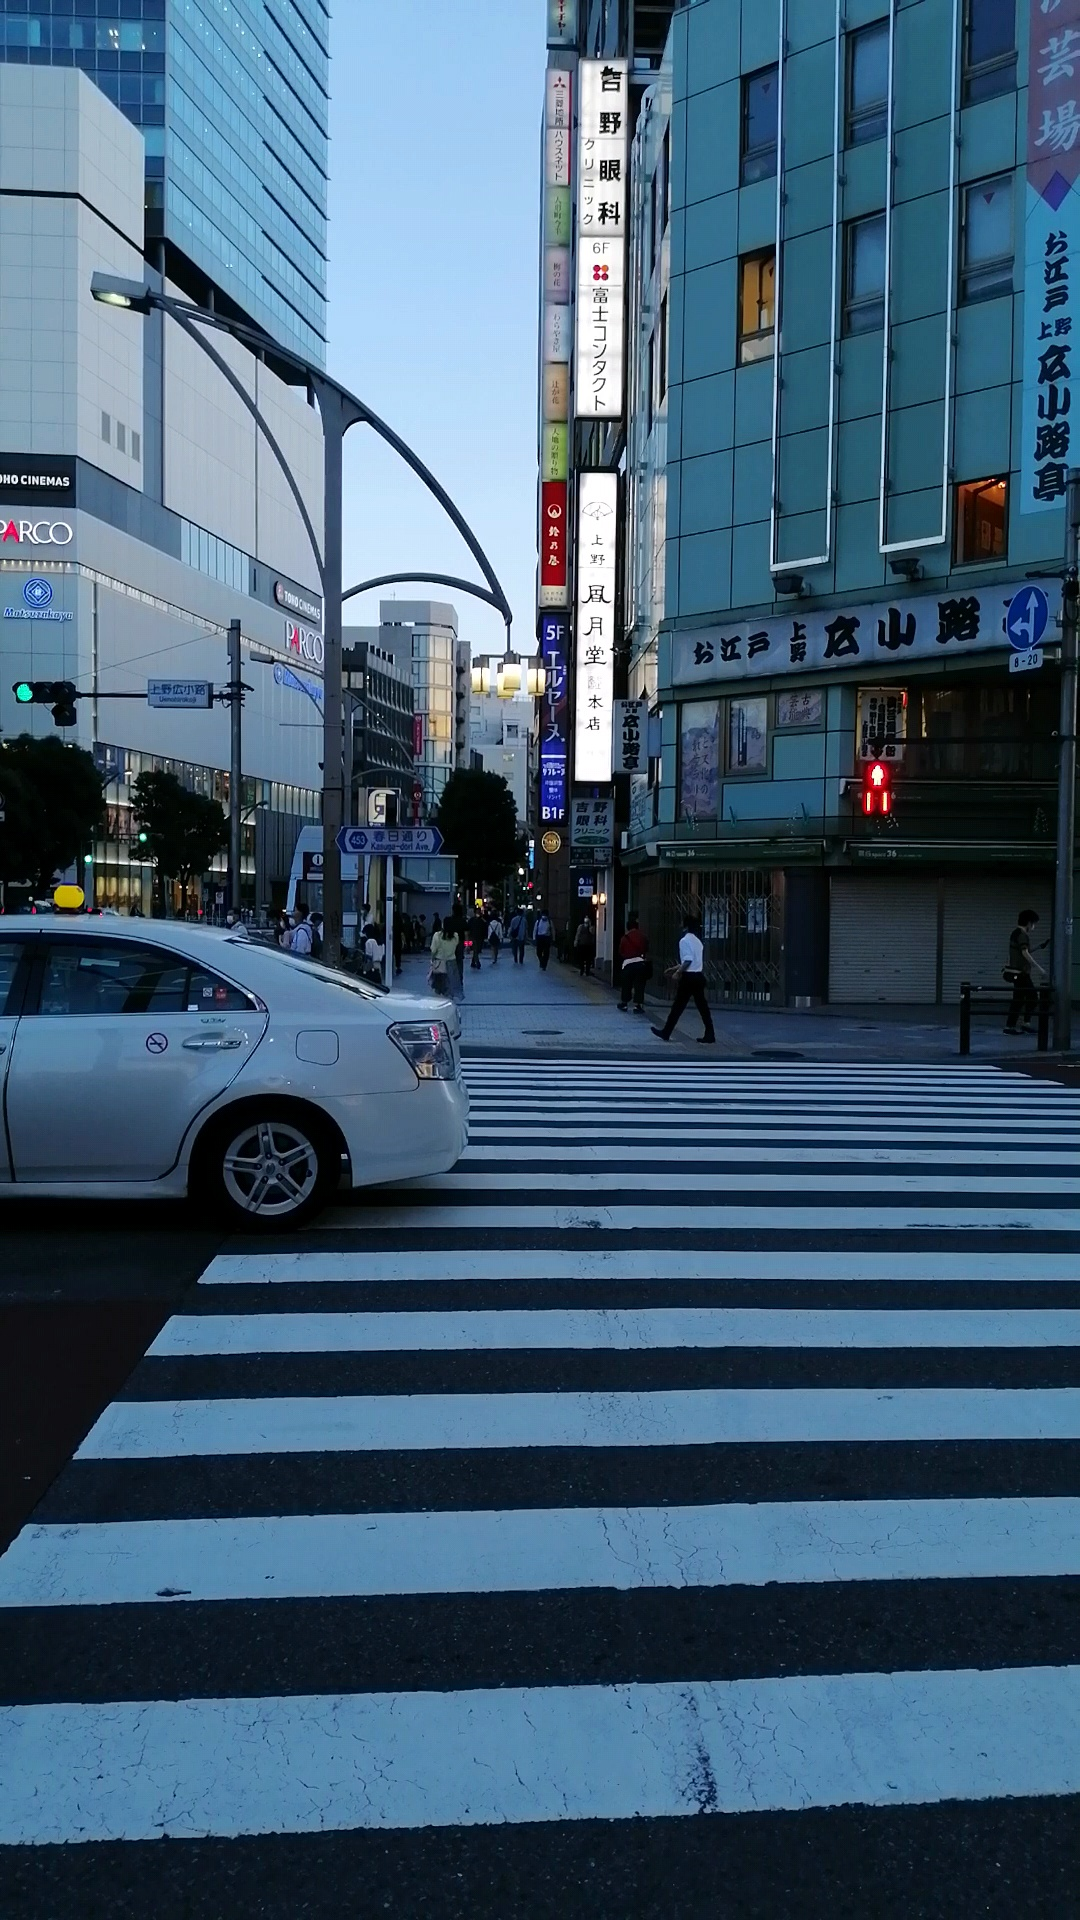red: (858, 760, 893, 822)
